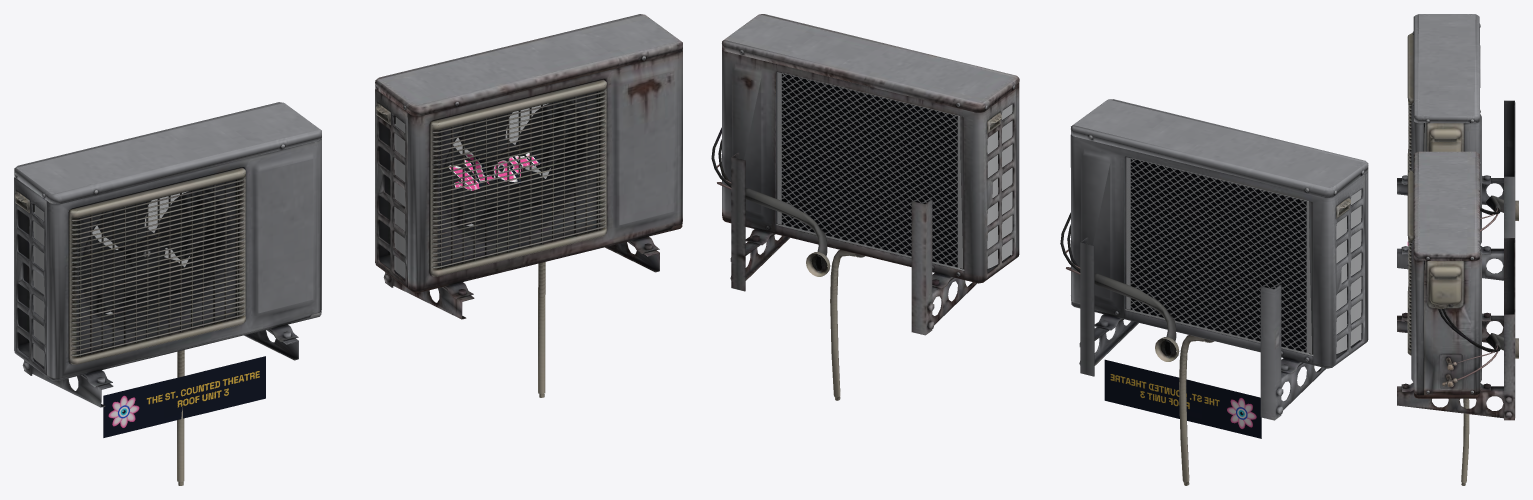
Rendered from nyb_birdman_ac.glb.
3 renders of one model, left to right at view 1: azimuth 30°, elevation 25°; view 2: azimuth 150°, elevation 25°; view 3: azimuth 270°, elevation 25°, orthographic. The views are drawn at different scales.
Visible parts, largest first — view 1: exterior_aircon_unit, stk_lbl_77cee4766b.png, stk_tag_mlow.png; view 2: exterior_aircon_unit, stk_lbl_77cee4766b.png; view 3: exterior_aircon_unit.
Boxes of the visible parts, x1=… form: exterior_aircon_unit: x1=14, y1=14, x2=682, y2=485; stk_lbl_77cee4766b.png: x1=103, y1=356, x2=265, y2=437; stk_tag_mlow.png: x1=448, y1=152, x2=540, y2=190; exterior_aircon_unit: x1=711, y1=14, x2=1368, y2=485; stk_lbl_77cee4766b.png: x1=1104, y1=359, x2=1261, y2=438; exterior_aircon_unit: x1=1397, y1=14, x2=1518, y2=485.
Size of the model in its own units: 1.8 by 0.928 by 0.3742.
Materials: 6 (6 with a texture image).
